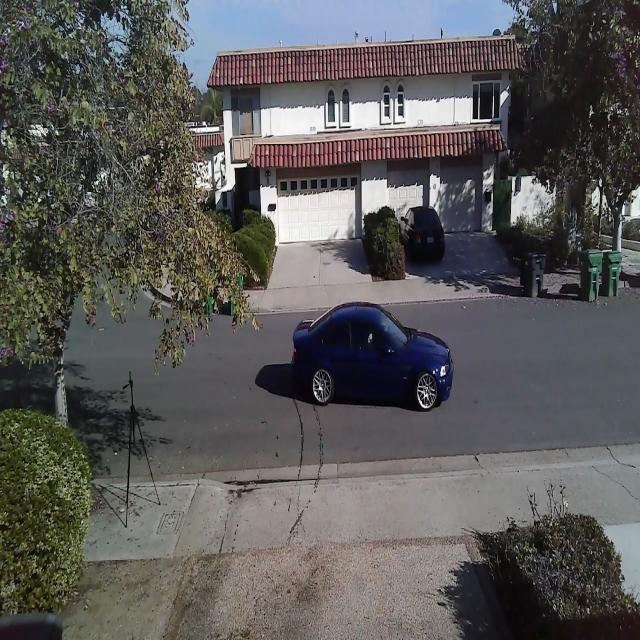Carbeetle: (286, 294, 457, 431)
Civilian: (399, 205, 446, 264)
